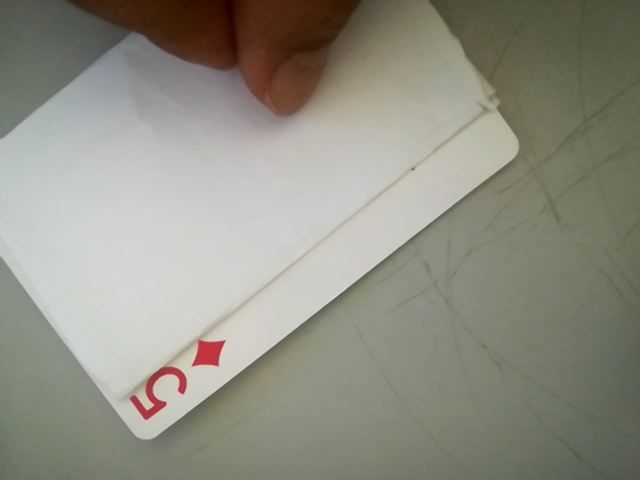fk 5: (120, 333, 236, 434)
